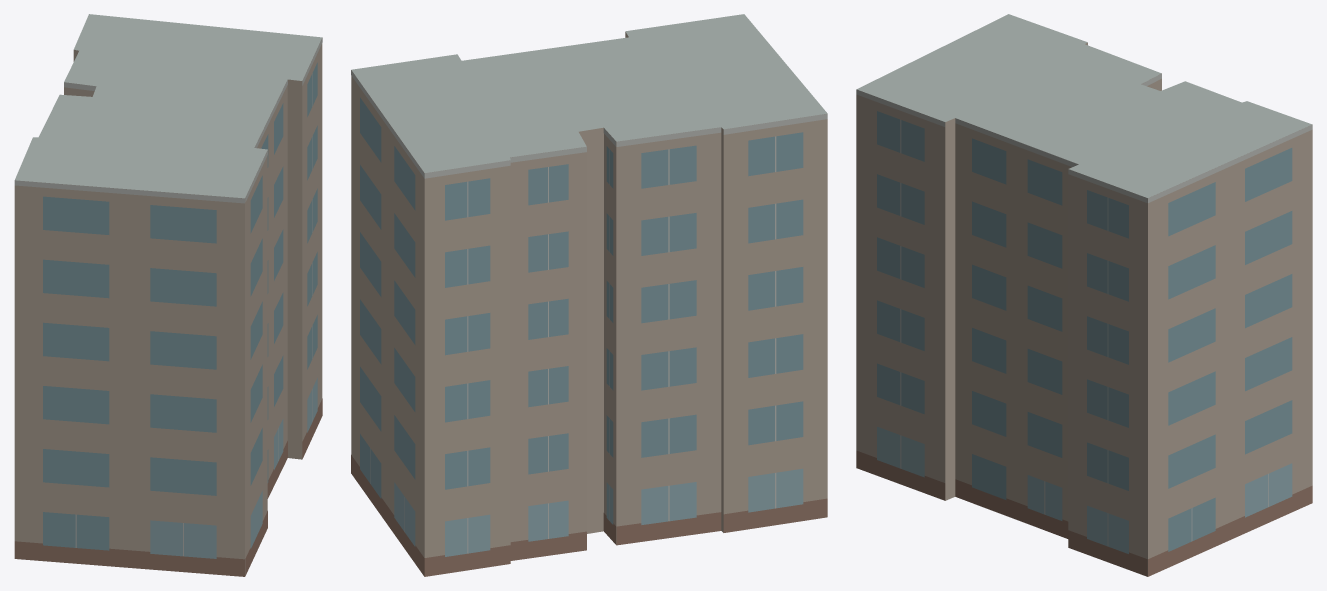
The model's file is survey-upis-32951816.glb.
3 renders of one model, left to right at view 1: azimuth 30°, elevation 25°; view 2: azimuth 150°, elevation 25°; view 3: azimuth 270°, elevation 25°, orthographic. The views are drawn at different scales.
Visible parts, largest first — view 1: survey-upis-32951816.tmp; view 2: survey-upis-32951816.tmp; view 3: survey-upis-32951816.tmp.
Boxes of the visible parts, box(x1,y1,x2,y2) form: survey-upis-32951816.tmp: box(14, 14, 322, 576); survey-upis-32951816.tmp: box(351, 14, 827, 576); survey-upis-32951816.tmp: box(856, 14, 1312, 576).
Size of the model in its own units: 18.79 by 18 by 19.65.
